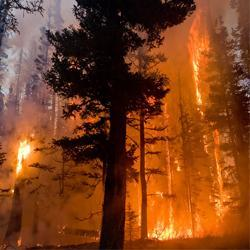fire: (192, 31, 207, 99), (152, 224, 203, 240), (15, 139, 29, 174)
